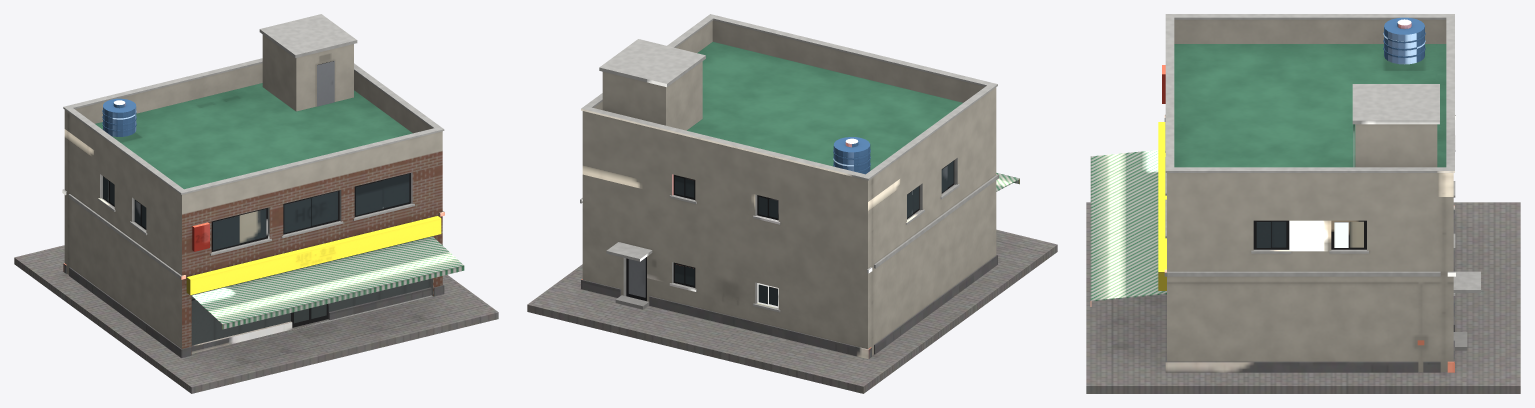
File: IlsanChicken01_LOD2.fbx
3 views of the same model, side by side, from view 1: azimuth 30°, elevation 25°; view 2: azimuth 150°, elevation 25°; view 3: azimuth 270°, elevation 25° (orthographic). The views are drawn at different scales.
Parts seen in each view (by area): view 1: IlsanChicken01_LOD2; view 2: IlsanChicken01_LOD2; view 3: IlsanChicken01_LOD2.
Part boxes in pixels (bbox=[...]): IlsanChicken01_LOD2: bbox=[14, 14, 498, 393]; IlsanChicken01_LOD2: bbox=[527, 14, 1057, 393]; IlsanChicken01_LOD2: bbox=[1086, 14, 1520, 393].
Bounding box in the file's own units: 15.9 × 10.25 × 15.9.
1 material, 1 textured.
